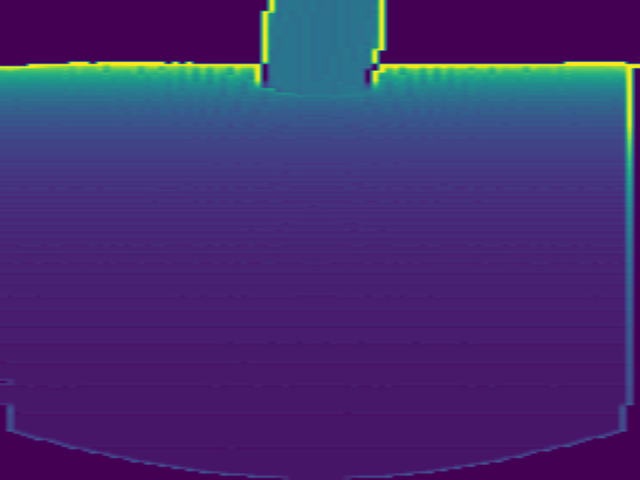cylinder: (256, 1, 388, 93)
